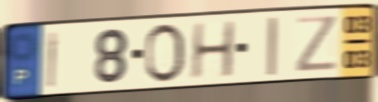8: (93, 27, 130, 86)
H: (188, 18, 237, 82)
I: (265, 15, 280, 79), (46, 29, 61, 90)
O: (143, 22, 187, 85)
Z: (293, 13, 340, 75)
